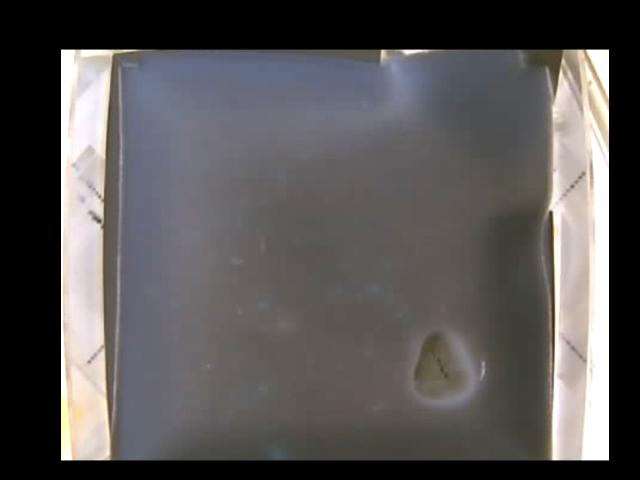Pebble: (412, 330, 471, 400)
